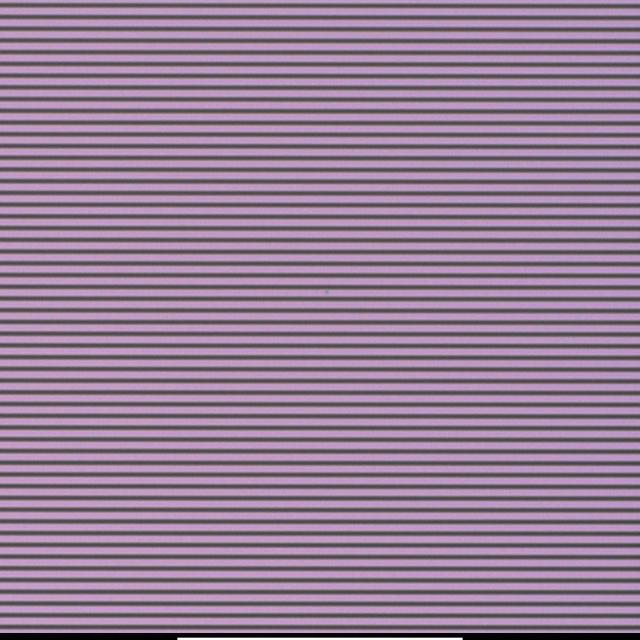nonvisual: (322, 283, 332, 297)
